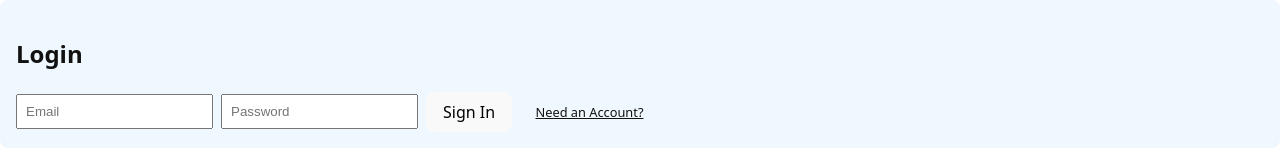
it: AuthBar › toggles to registration mode
This screenshot has width=1280, height=165.
Click the button "Need an Account?": (589, 112) top-left (520, 95), bottom-right (659, 128)
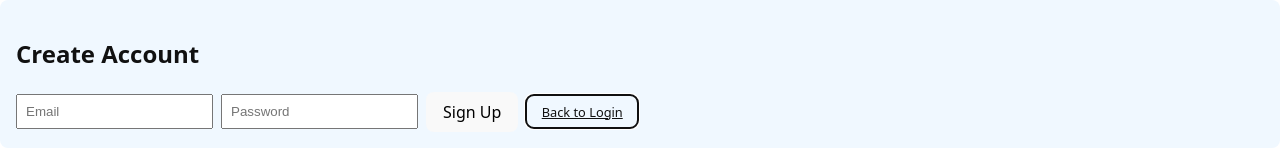
Expected: the heading "Create Account" is shown, top-left (16, 37), bottom-right (199, 70)
Expected: the button "Sign Up" is shown, top-left (426, 92), bottom-right (518, 132)
